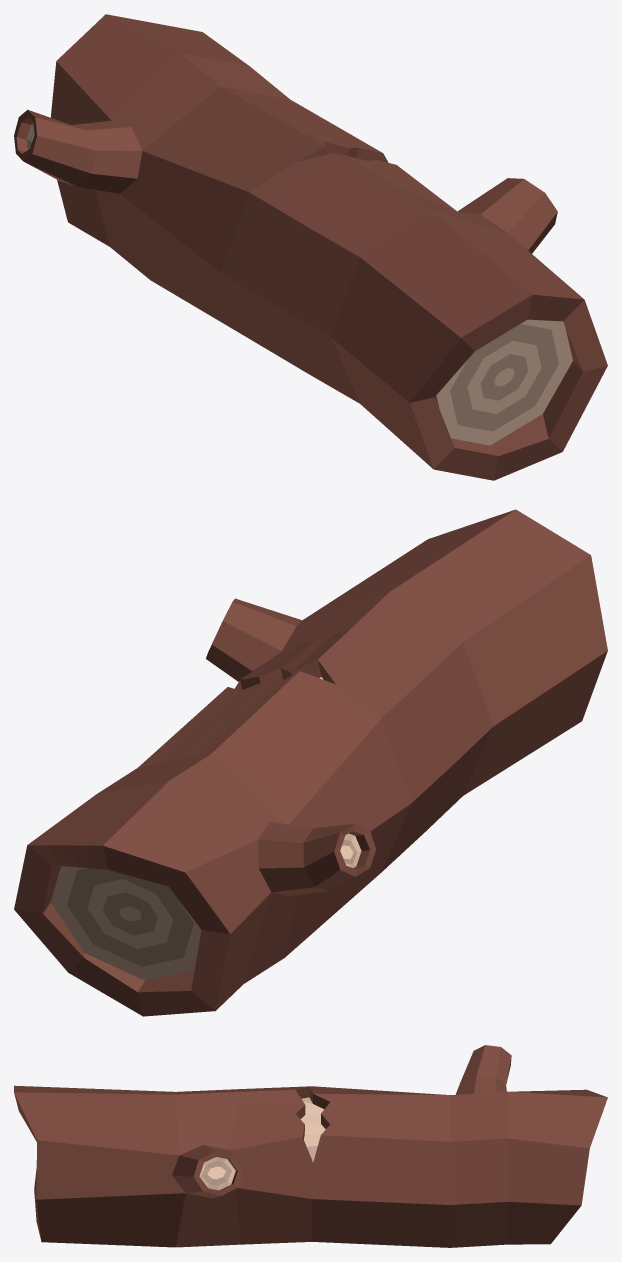
The model's file is Tronco.fbx.
3 views of the same model, one above another, from view 1: azimuth 30°, elevation 25°; view 2: azimuth 150°, elevation 25°; view 3: azimuth 270°, elevation 25° (orthographic). The views are drawn at different scales.
Visible parts, largest first — view 1: Cylinder; view 2: Cylinder; view 3: Cylinder.
Part boxes in pixels (bbox=[...]): Cylinder: bbox=[14, 14, 607, 480]; Cylinder: bbox=[14, 509, 607, 1016]; Cylinder: bbox=[14, 1045, 607, 1247].
Bounding box in the file's own units: 133 × 81.69 × 279.
